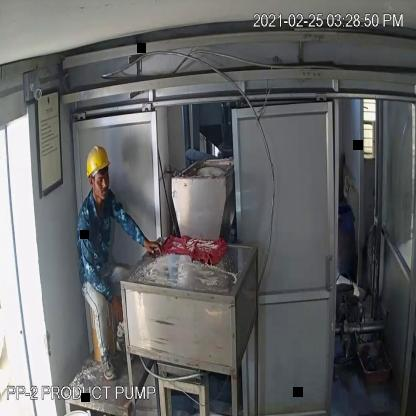helmet: (83, 144, 115, 184)
